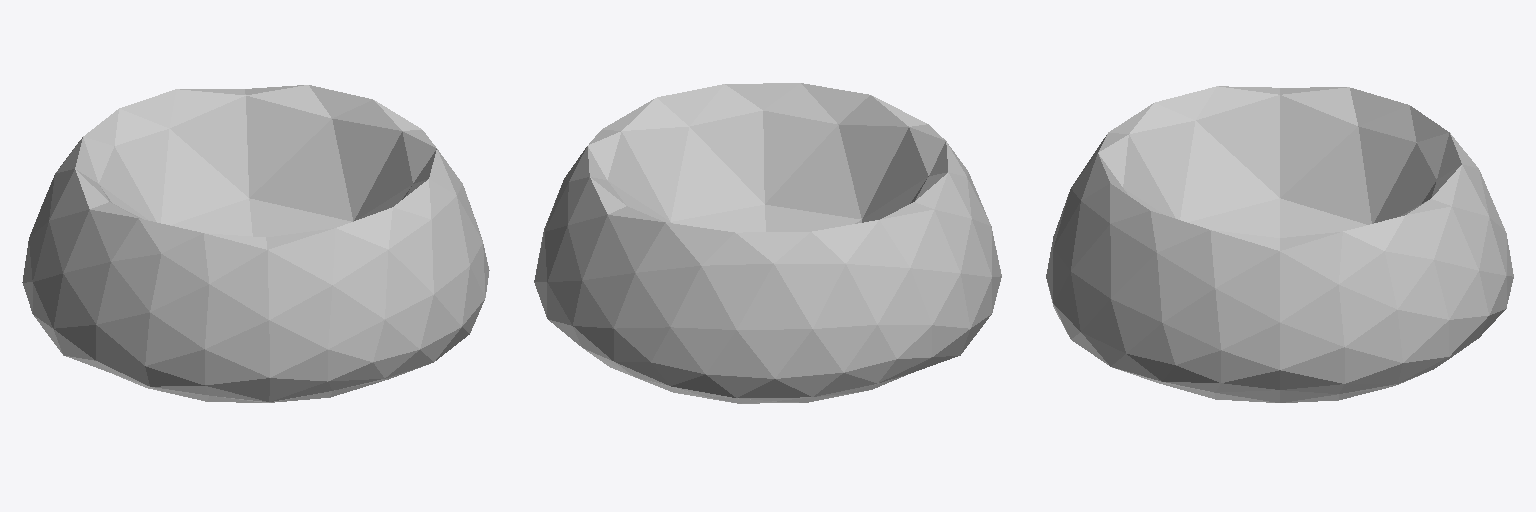
The model's file is bow.obj.
The picture shows the model from 3 angles: view 1: azimuth 30°, elevation 25°; view 2: azimuth 150°, elevation 25°; view 3: azimuth 270°, elevation 25°; orthographic projection.
Parts seen in each view (by area): view 1: pPlatonic1; view 2: pPlatonic1; view 3: pPlatonic1.
Boxes of the visible parts, x1=… form: pPlatonic1: x1=22, y1=85, x2=489, y2=402; pPlatonic1: x1=534, y1=83, x2=1001, y2=403; pPlatonic1: x1=1046, y1=86, x2=1513, y2=402.
Bounding box in the file's own units: 1.35 × 0.6254 × 1.35.